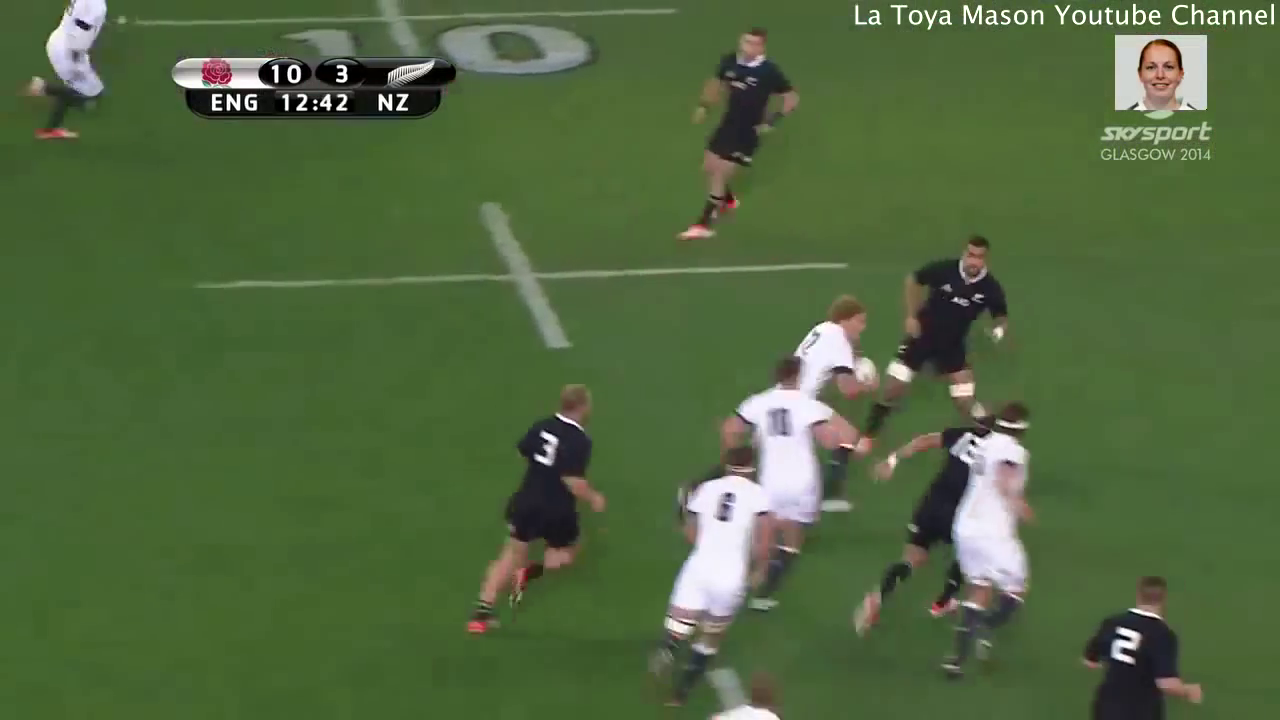10_metre: (178, 200, 863, 352), (119, 1, 683, 100)
ball: (845, 350, 885, 404)
player: (712, 352, 869, 618), (844, 405, 1003, 652), (639, 440, 779, 711), (463, 380, 608, 640), (857, 231, 1015, 451), (933, 398, 1047, 682), (668, 20, 806, 246), (1073, 573, 1207, 720), (13, 1, 122, 154), (773, 288, 883, 408), (690, 671, 797, 720)
